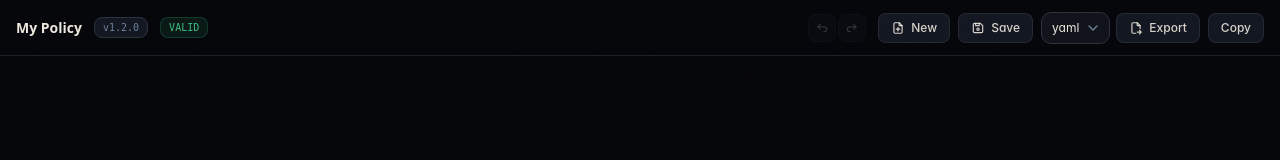
Test: WorkbenchTopbar › enters edit mode when policy name is clicked
Click the button "My Policy" at point(49, 28), box [16,18,82,38]
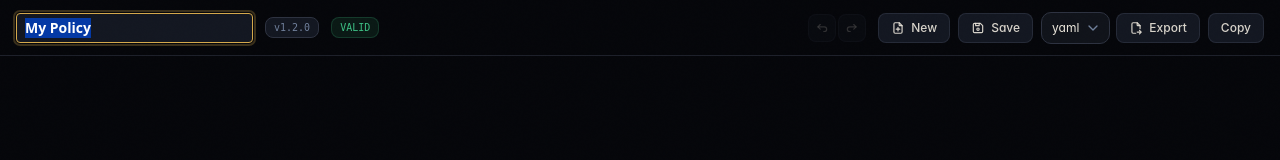
Now the field showing "My Policy" is shown, box [16,12,253,42]
